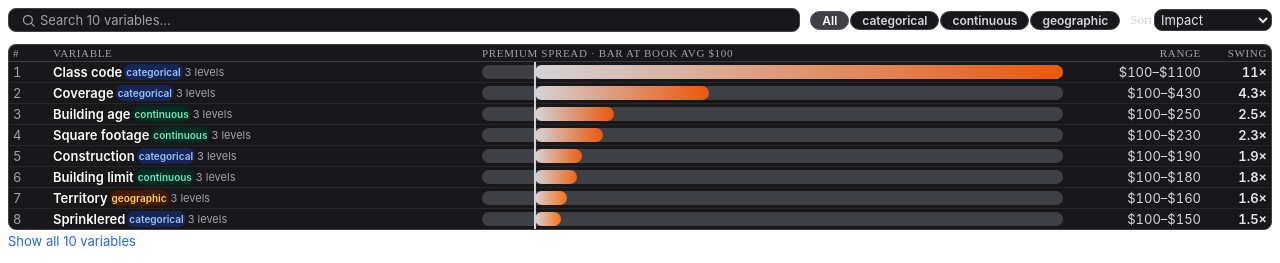
Test: <RateDriversList> › filters by type chip
Click the button with test id "rater-rate-drivers-chip-numeric": (985, 20) [940,10,1029,30]
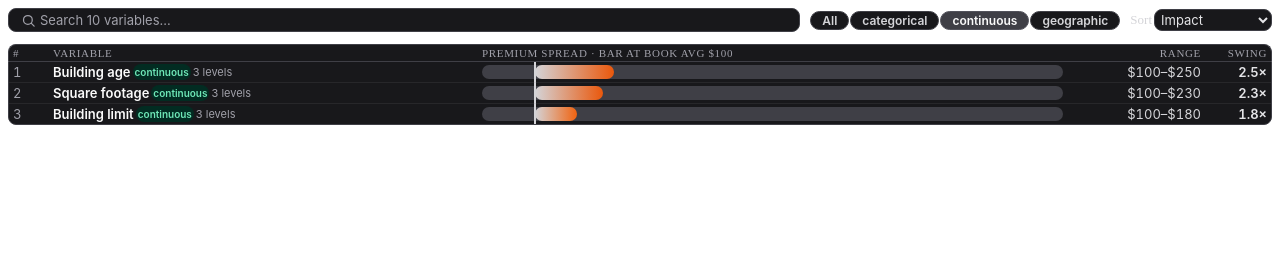
Expected: the button with test id "rater-rate-drivers-row-age" is shown, [9,62,1271,82]
Now the button with test id "rater-rate-drivers-row-class" is gone
